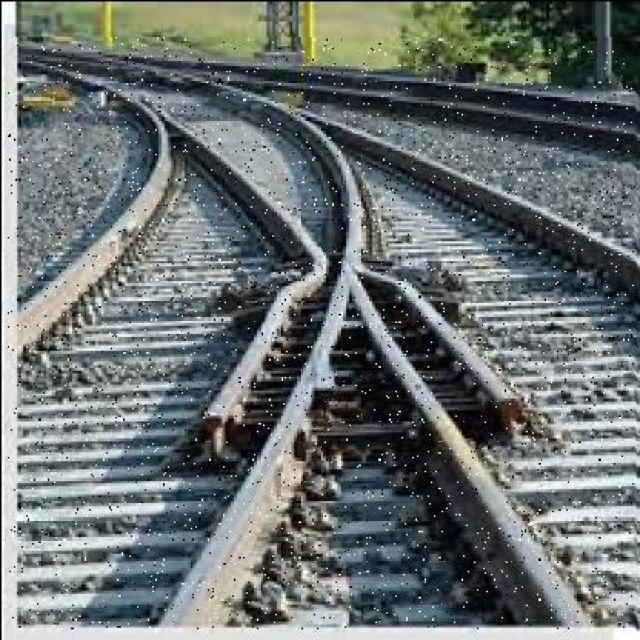rail: (7, 37, 634, 629)
